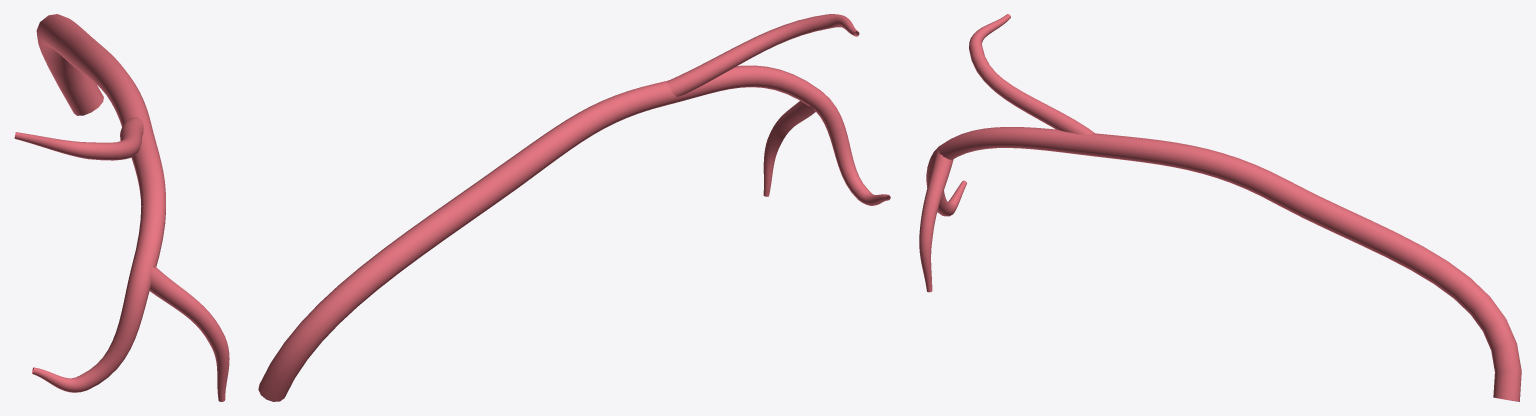
3 views of the same model, side by side, from view 1: azimuth 30°, elevation 25°; view 2: azimuth 150°, elevation 25°; view 3: azimuth 270°, elevation 25° (orthographic). The views are drawn at different scales.
Parts seen in each view (by area): view 1: ZA_5d02b1d2f9ab02d3; view 2: ZA_5d02b1d2f9ab02d3; view 3: ZA_5d02b1d2f9ab02d3.
Boxes of the visible parts, x1,y1,x2,y2 form: ZA_5d02b1d2f9ab02d3: (14,14,229,401); ZA_5d02b1d2f9ab02d3: (258,14,890,401); ZA_5d02b1d2f9ab02d3: (919,14,1521,401).
Bounding box in the file's own units: 0.0276 × 0.0194 × 0.044.
